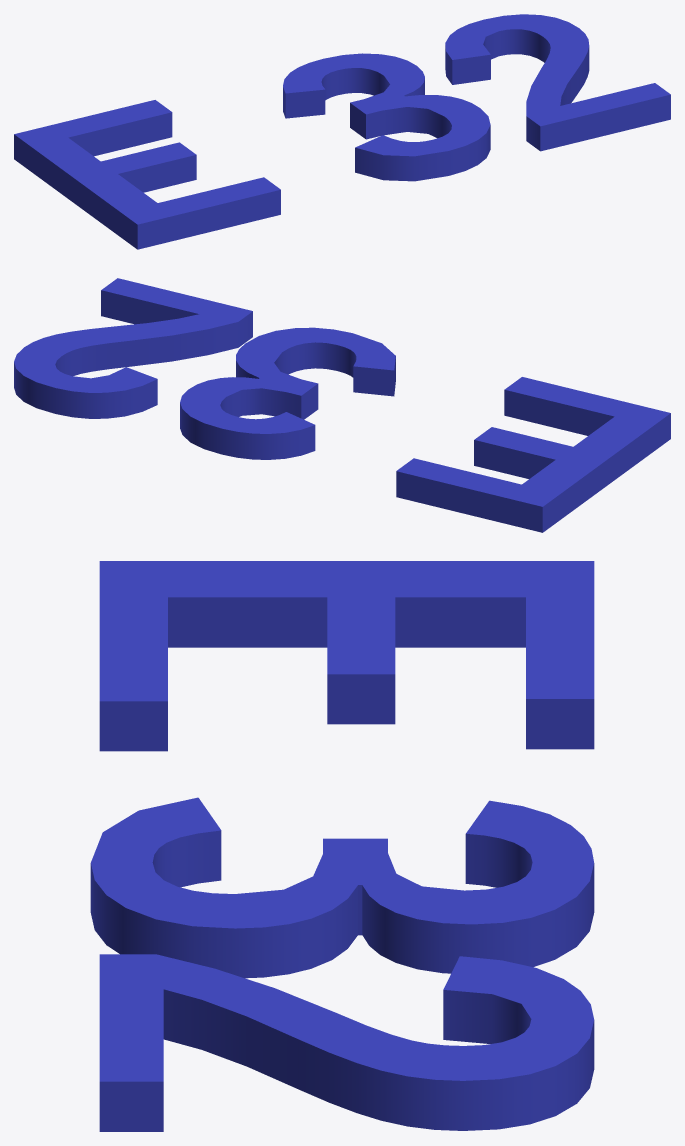
3 views of the same model, one above another, from view 1: azimuth 30°, elevation 25°; view 2: azimuth 150°, elevation 25°; view 3: azimuth 270°, elevation 25° (orthographic). The views are drawn at different scales.
Parts seen in each view (by area): view 1: node_id67; view 2: node_id67; view 3: node_id67.
Boxes of the visible parts, left/top/right/bottom form: node_id67: left=14, top=14, right=670, bottom=249; node_id67: left=14, top=278, right=670, bottom=532; node_id67: left=90, top=561, right=594, bottom=1131.
Size of the model in its own units: 0.4178 by 0.0188 by 0.1707.
